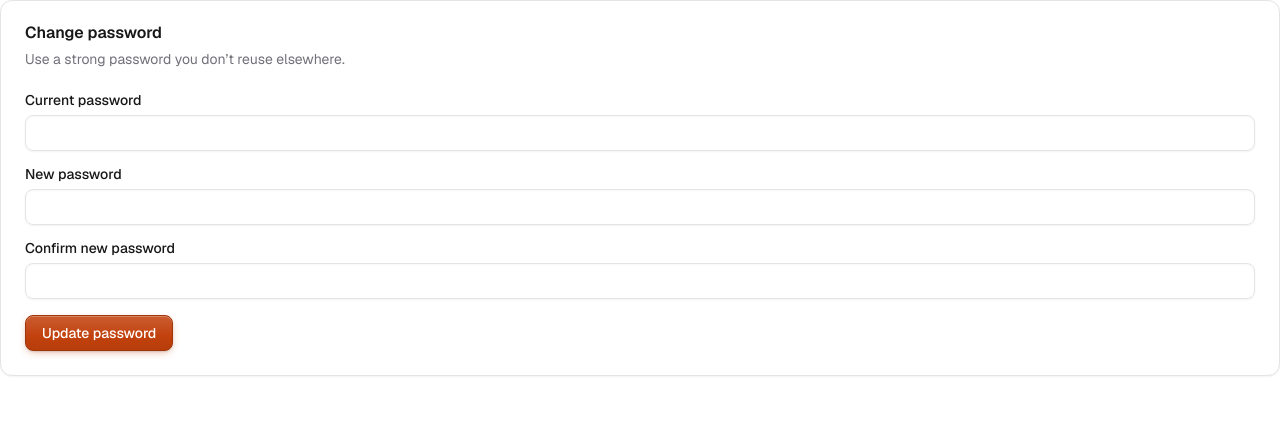
Test: ChangePasswordForm › blocks submit and shows an error when new passwords mismatch
Type "oldpass12" into the password field labelled "Current password" at point(640, 133), box top-left (25, 115), bottom-right (1255, 151)
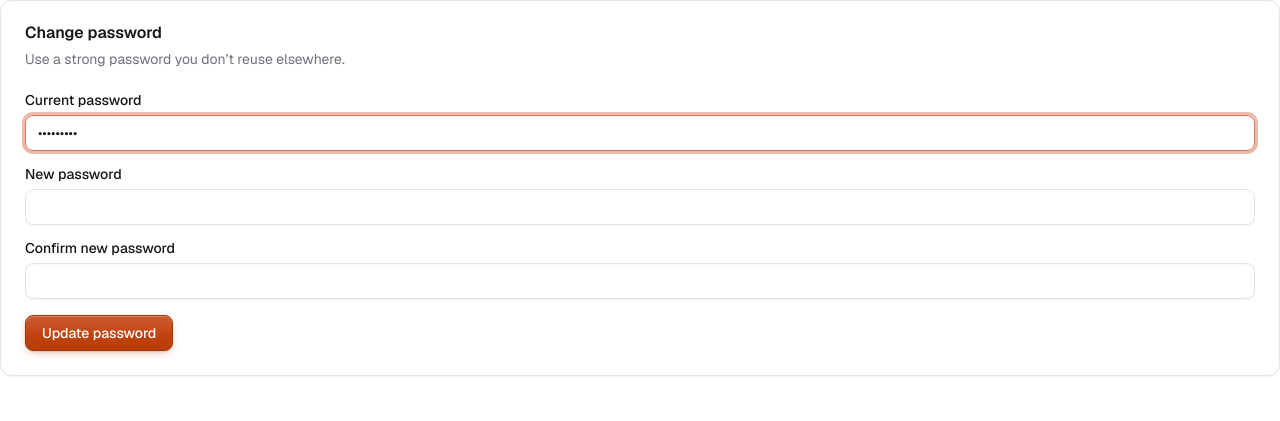
Type "newpass123" into the password field labelled "New password" at point(640, 207), box top-left (25, 189), bottom-right (1255, 225)
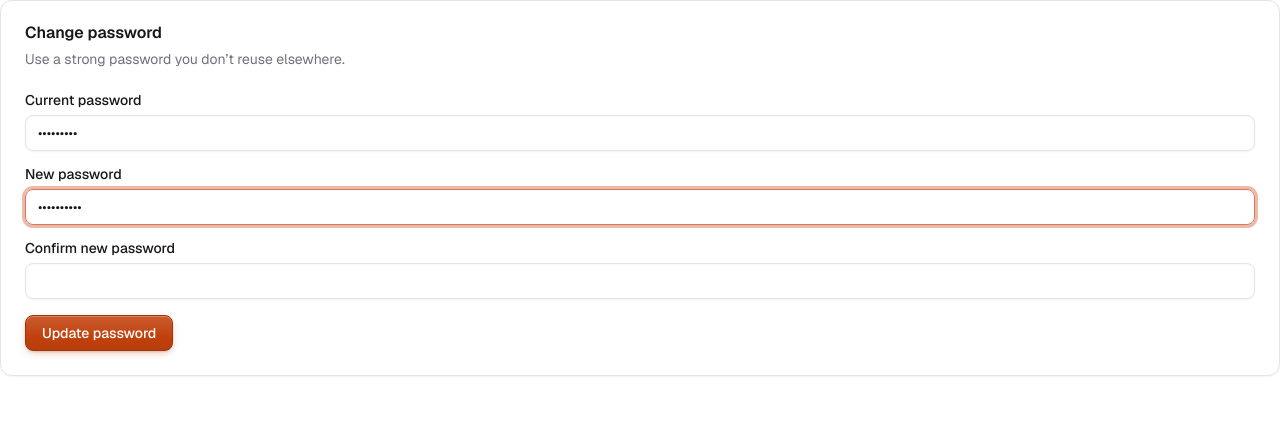
Type "different99" into the password field labelled "Confirm new password" at point(640, 281), box top-left (25, 263), bottom-right (1255, 299)
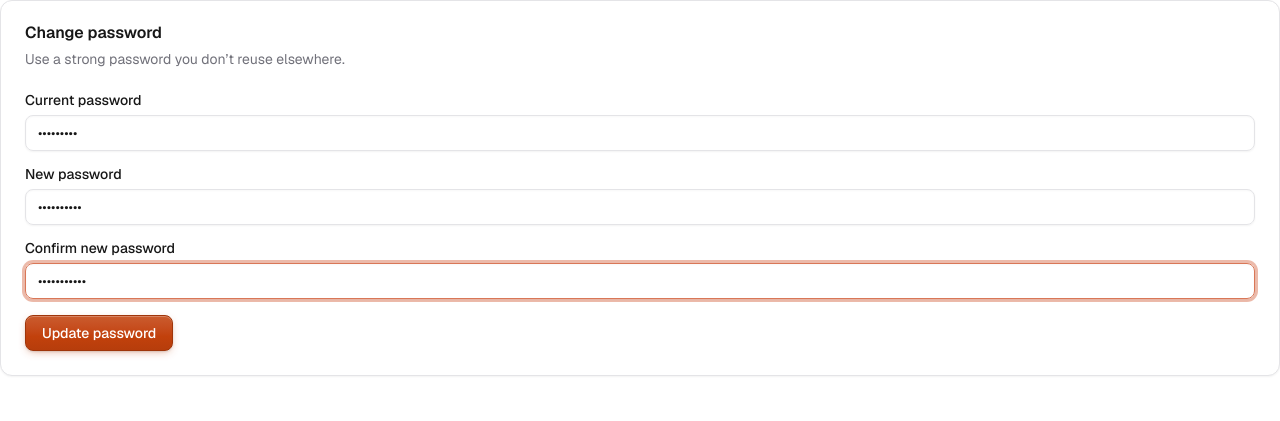
Click the button "Update password" at point(99, 333), box top-left (25, 315), bottom-right (173, 351)
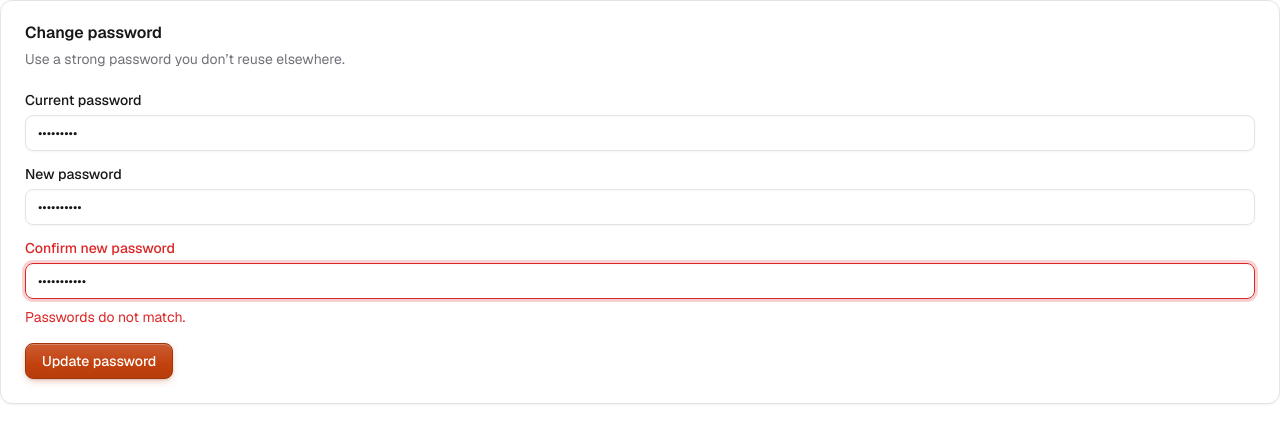
Now the text "Passwords do not match." is shown, box top-left (25, 308), bottom-right (185, 326)
